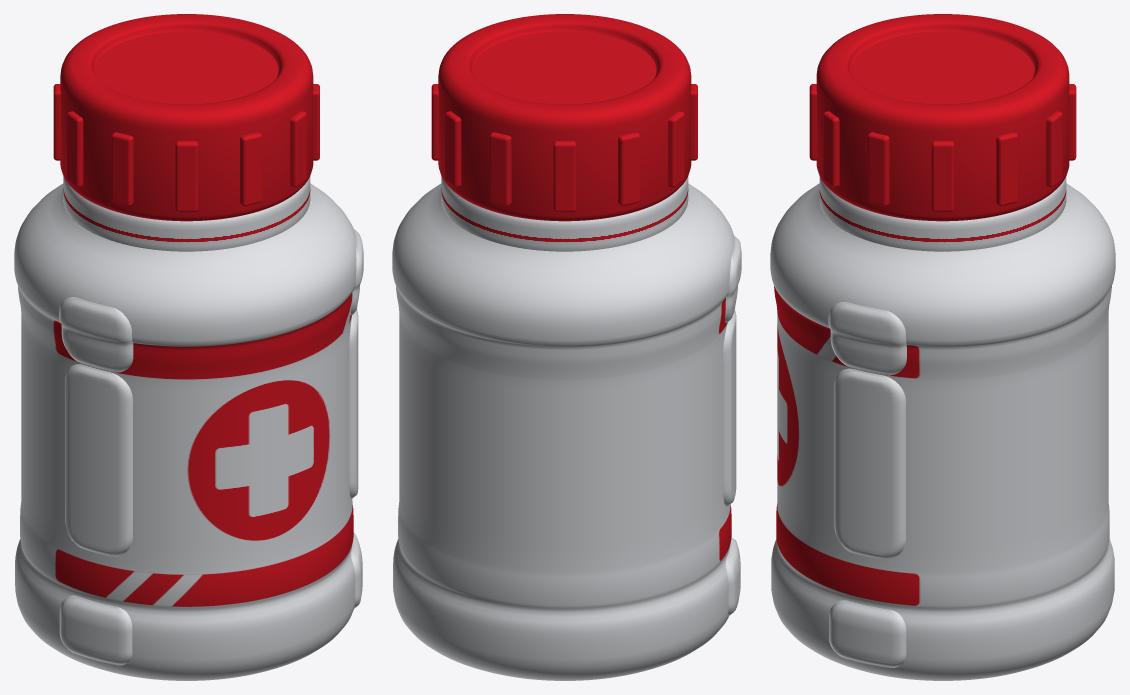
The model's file is Blender_Python_medicine.glb.
The picture shows the model from 3 angles, left to right: view 1: azimuth 30°, elevation 25°; view 2: azimuth 150°, elevation 25°; view 3: azimuth 270°, elevation 25°; orthographic projection.
Visible parts, largest first — view 1: Molded bottle body, Cap with recessed top, Left long mold pad, Neck and tamper collar, Left shoulder mold pad, Left base mold pad, Right long mold pad, Cap grip 12, Cap grip 11, Cap grip 01, Cap grip 02, Cap grip 10 (+4 smaller); view 2: Molded bottle body, Cap with recessed top, Neck and tamper collar, Left long mold pad, Cap grip 08, Cap grip 07, Cap grip 09, Cap grip 10, Cap grip 06, Left base mold pad, Left shoulder mold pad, Cap grip 05 (+1 smaller); view 3: Molded bottle body, Cap with recessed top, Right long mold pad, Neck and tamper collar, Right shoulder mold pad, Right base mold pad, Cap grip 04, Cap grip 03, Cap grip 05, Cap grip 02, Cap grip 06, Cap grip 01 (+1 smaller).
Boxes of the visible parts, x1,y1,x2,y2 form: Molded bottle body: [14, 183, 356, 680]; Cap with recessed top: [60, 14, 313, 221]; Left long mold pad: [65, 364, 132, 556]; Neck and tamper collar: [63, 176, 310, 251]; Left shoulder mold pad: [59, 297, 133, 372]; Left base mold pad: [59, 595, 132, 665]; Right long mold pad: [349, 309, 358, 498]; Cap grip 12: [175, 141, 198, 211]; Cap grip 11: [111, 132, 133, 206]; Cap grip 01: [240, 132, 261, 206]; Cap grip 02: [290, 111, 306, 187]; Cap grip 10: [67, 111, 83, 187]; Molded bottle body: [392, 183, 734, 680]; Cap with recessed top: [438, 14, 691, 221]; Neck and tamper collar: [441, 176, 688, 251]; Left long mold pad: [723, 310, 736, 506]; Cap grip 08: [553, 141, 576, 211]; Cap grip 07: [489, 132, 511, 206]; Cap grip 09: [618, 132, 639, 206]; Cap grip 10: [668, 111, 684, 187]; Cap grip 06: [445, 111, 461, 187]; Left base mold pad: [725, 537, 740, 615]; Left shoulder mold pad: [725, 236, 741, 322]; Cap grip 05: [431, 84, 438, 160]; Molded bottle body: [770, 183, 1115, 680]; Cap with recessed top: [816, 14, 1069, 221]; Right long mold pad: [834, 368, 905, 559]; Neck and tamper collar: [819, 176, 1066, 251]; Right shoulder mold pad: [828, 302, 906, 375]; Right base mold pad: [829, 600, 906, 667]; Cap grip 04: [931, 141, 954, 211]; Cap grip 03: [867, 132, 889, 206]; Cap grip 05: [996, 132, 1018, 206]; Cap grip 02: [823, 111, 839, 187]; Cap grip 06: [1046, 111, 1062, 187]; Cap grip 01: [809, 84, 816, 160].
Size of the model in its own units: 1.13 by 2.02 by 1.13.
Materials: 4 (4 with a texture image).
